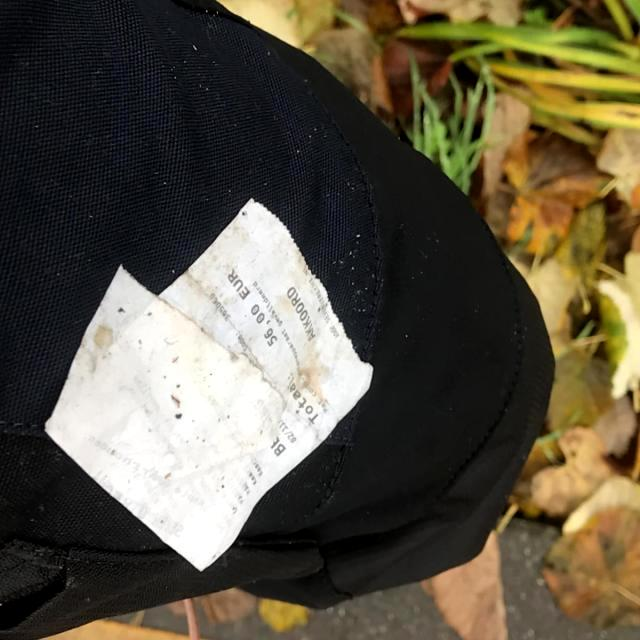Paper: (41, 187, 379, 578)
